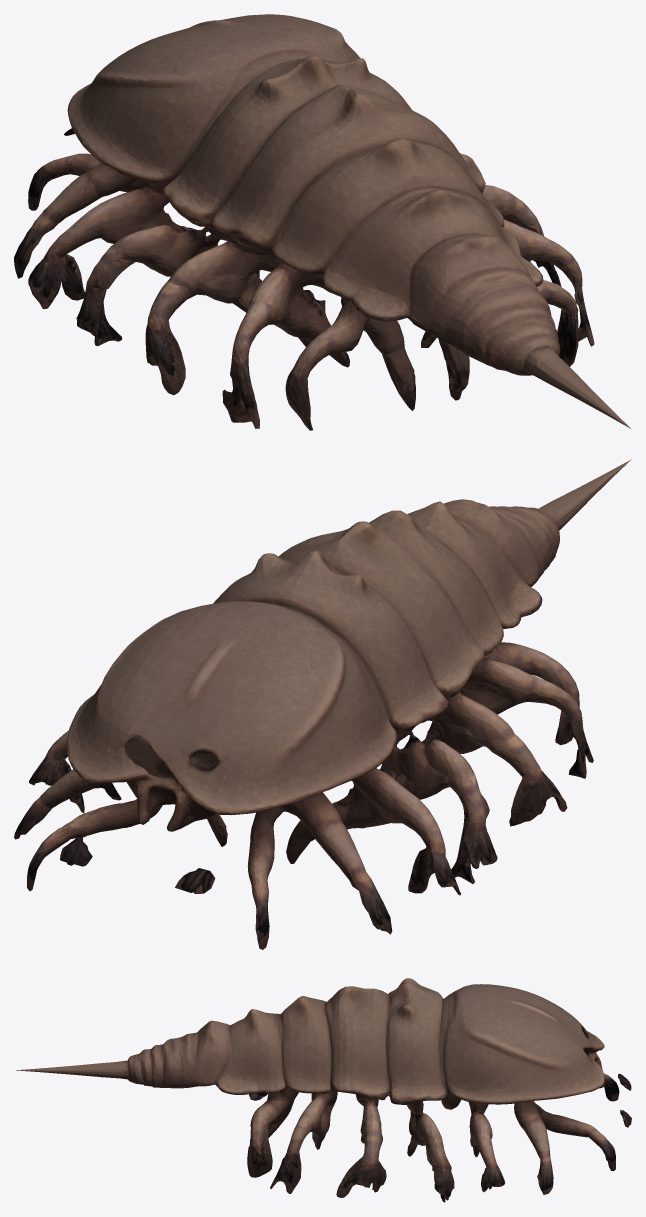
3 renders of one model, top to bottom at view 1: azimuth 30°, elevation 25°; view 2: azimuth 150°, elevation 25°; view 3: azimuth 270°, elevation 25°, orthographic. The views are drawn at different scales.
Visible parts, largest first — view 1: LOCAL_TELSON_STUDY_NOT_READY; view 2: LOCAL_TELSON_STUDY_NOT_READY; view 3: LOCAL_TELSON_STUDY_NOT_READY.
Boxes of the visible parts, bbox=[...] form: LOCAL_TELSON_STUDY_NOT_READY: bbox=[14, 14, 630, 430]; LOCAL_TELSON_STUDY_NOT_READY: bbox=[14, 459, 631, 949]; LOCAL_TELSON_STUDY_NOT_READY: bbox=[16, 978, 631, 1202].
Size of the model in its own units: 0.491 by 0.2958 by 1.
1 material, 1 textured.
